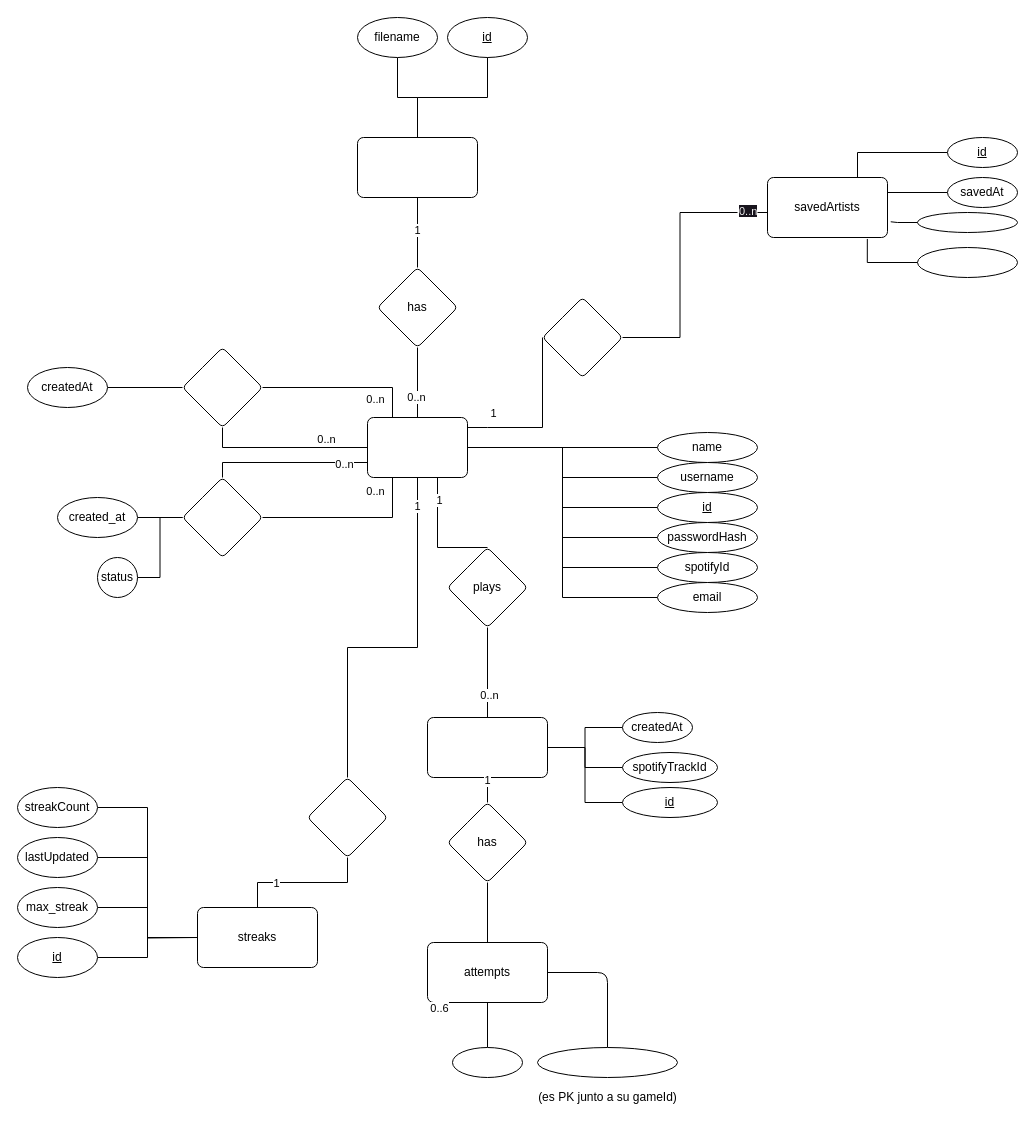
This 1035x1130 diagram has some shape labels left out. Here are the shapes that lost their labels. From the top down, the box of each, then its label:
(356, 136, 478, 198): profile_pictures
(916, 212, 1018, 232): isFavorite
(916, 246, 1018, 278): spotifyArtistId
(542, 296, 622, 378): saves
(182, 346, 262, 428): blocks
(366, 416, 468, 478): users
(182, 476, 262, 558): friendships
(426, 716, 548, 778): guessSongGames
(306, 776, 388, 858): achieves
(452, 1046, 522, 1078): guessedAt
(536, 1046, 678, 1078): guessedSpotifyTrackId
